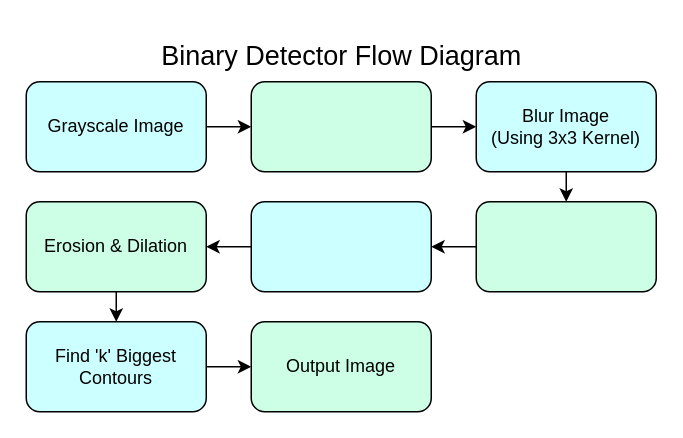
Some shapes in this 683 by 438 pixel diagram are drawn without their labels. Each missing label, with the centre of its shape:
"Binary Threshold" goes at point 565,246.
"Calculate Gradient (Using Sobel Kernel)" goes at point 340,126.
"Morphology" goes at point 340,246.
